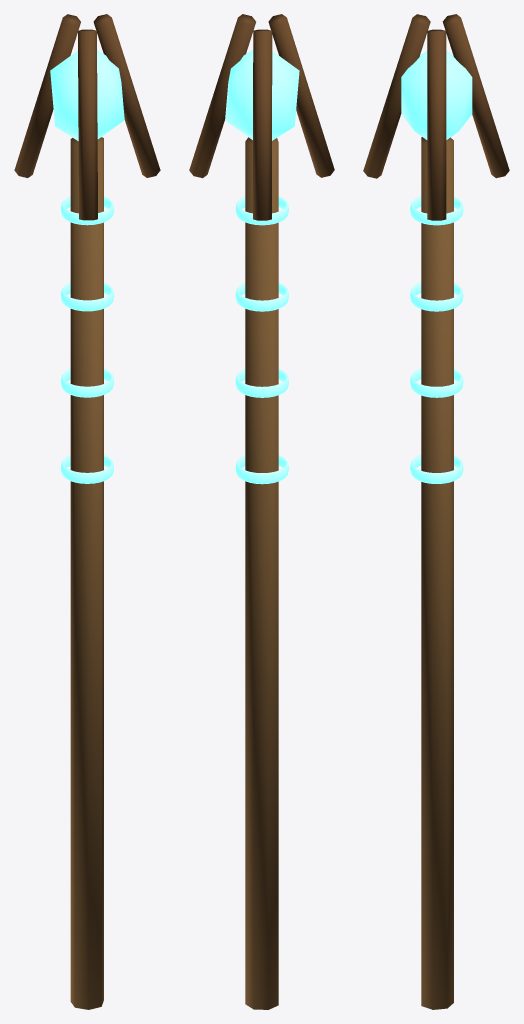
The model's file is weapon_druida_rara.glb.
3 views of the same model, side by side, from view 1: azimuth 30°, elevation 25°; view 2: azimuth 150°, elevation 25°; view 3: azimuth 270°, elevation 25° (orthographic).
Visible parts, largest first — view 1: weapon_druida_rara; view 2: weapon_druida_rara; view 3: weapon_druida_rara.
Part boxes in pixels (x1,y1,x2,y2): weapon_druida_rara: [14, 14, 160, 1009]; weapon_druida_rara: [189, 14, 334, 1009]; weapon_druida_rara: [363, 14, 509, 1009].
Size of the model in its own units: 0.3335 by 2.85 by 0.3851.
